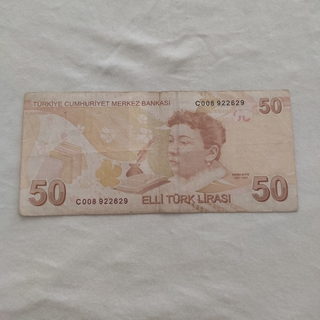50TLBack: (18, 88, 298, 217)
